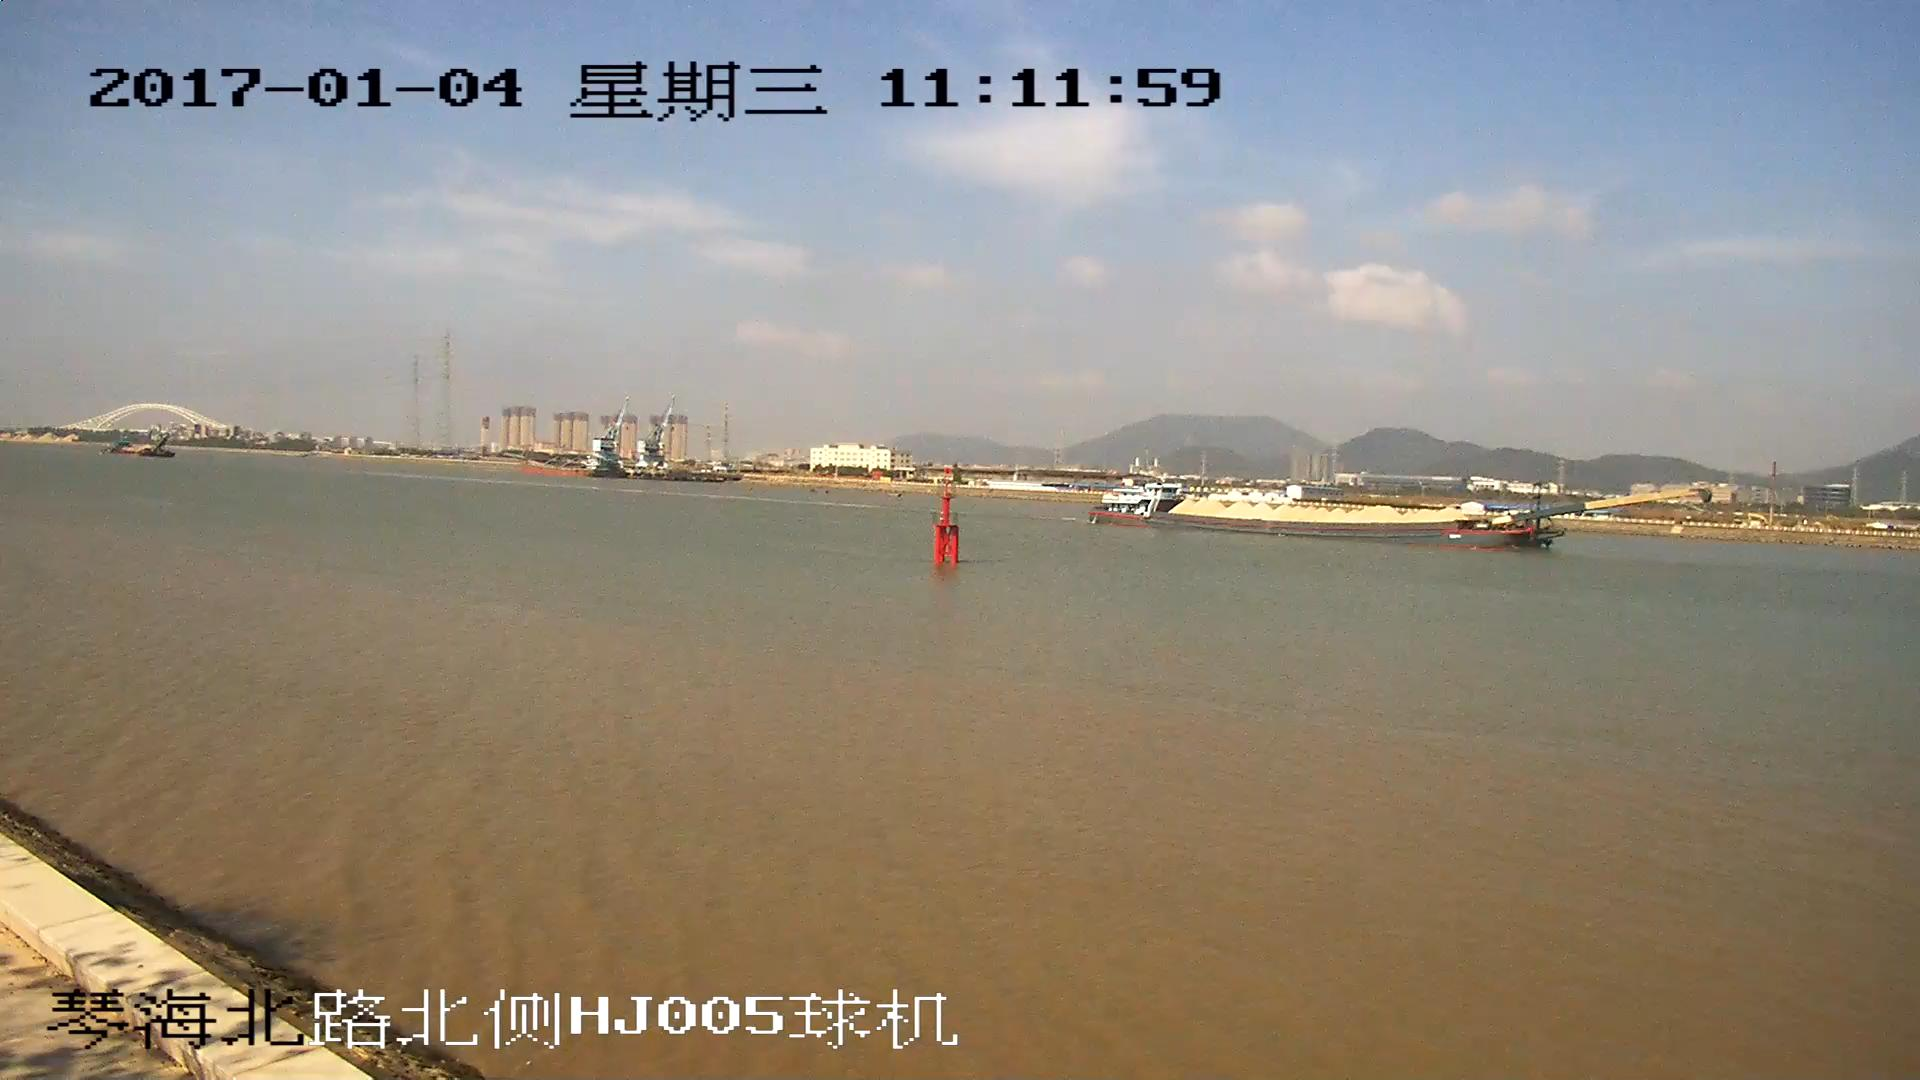ore carrier: (1094, 475, 1698, 554)
